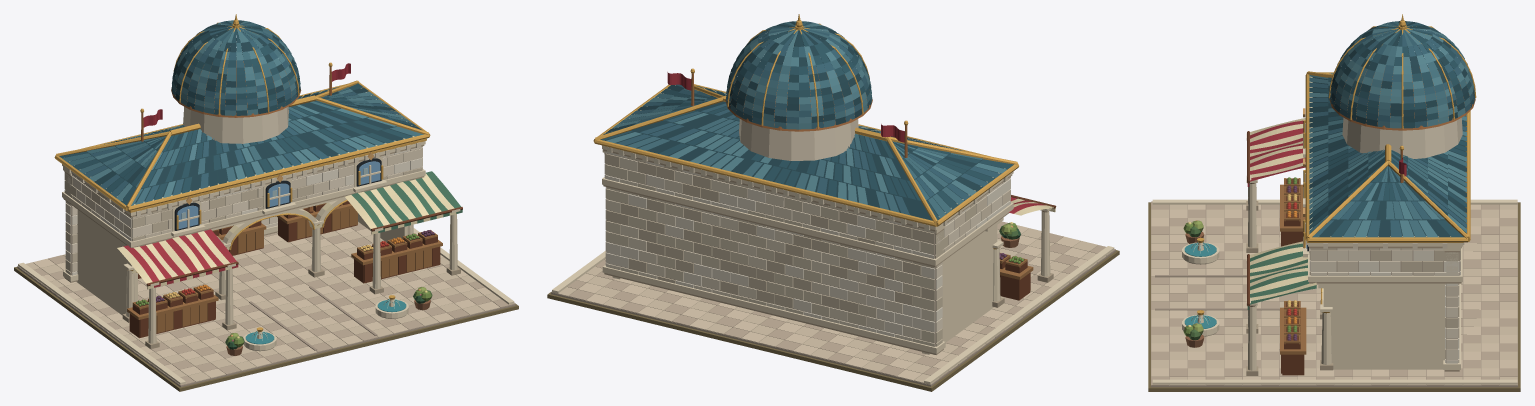
File: market-nivel-7.glb
3 views of the same model, side by side, from view 1: azimuth 30°, elevation 25°; view 2: azimuth 150°, elevation 25°; view 3: azimuth 270°, elevation 25° (orthographic). The views are drawn at different scales.
Parts seen in each view (by area): view 1: Mercado 07 #e6d7ba, Mercado 07 #d3c3a9, Mercado 07 #dac9af, Mercado 07 #c1af99, Mercado 07 #294952, Mercado 07 #305762, Mercado 07 #d5a452, Mercado 07 #ded1b9, Mercado 07 #46717c, Mercado 07 #9f7145, Mercado 07 #54818b, Mercado 07 #eadbb2 (+15 smaller); view 2: Mercado 07 #ded1b9, Mercado 07 #e6d7ba, Mercado 07 #cec1a8, Mercado 07 #e8dcc5, Mercado 07 #294952, Mercado 07 #eae1ce, Mercado 07 #54818b, Mercado 07 #305762, Mercado 07 #c1af99, Mercado 07 #d3c3a9, Mercado 07 #46717c, Mercado 07 #d5a452 (+8 smaller); view 3: Mercado 07 #e6d7ba, Mercado 07 #d3c3a9, Mercado 07 #c1af99, Mercado 07 #dac9af, Mercado 07 #294952, Mercado 07 #54818b, Mercado 07 #46717c, Mercado 07 #305762, Mercado 07 #3b6472, Mercado 07 #d5a452, Mercado 07 #ded1b9, Mercado 07 #ae9d8b (+13 smaller).
Part boxes in pixels (x1,y1,x2,y2): Mercado 07 #e6d7ba: (18,141,514,384); Mercado 07 #d3c3a9: (17,222,500,381); Mercado 07 #dac9af: (33,227,500,378); Mercado 07 #c1af99: (25,222,515,385); Mercado 07 #294952: (62,24,421,203); Mercado 07 #305762: (59,20,417,205); Mercado 07 #d5a452: (54,14,430,331); Mercado 07 #ded1b9: (65,106,422,271); Mercado 07 #46717c: (62,23,423,205); Mercado 07 #9f7145: (127,203,442,332); Mercado 07 #54818b: (89,20,406,201); Mercado 07 #eadbb2: (63,88,456,289); Mercado 07 #ded1b9: (605,119,1010,346); Mercado 07 #e6d7ba: (552,145,1114,384); Mercado 07 #cec1a8: (604,153,980,346); Mercado 07 #e8dcc5: (604,157,1002,341); Mercado 07 #294952: (604,21,1007,220); Mercado 07 #eae1ce: (604,151,1010,336); Mercado 07 #54818b: (606,23,1006,204); Mercado 07 #305762: (601,23,1013,220); Mercado 07 #c1af99: (567,221,1115,377); Mercado 07 #d3c3a9: (551,228,1106,384); Mercado 07 #46717c: (618,21,982,218); Mercado 07 #d5a452: (593,14,1018,249); Mercado 07 #e6d7ba: (1152,123,1517,385); Mercado 07 #d3c3a9: (1151,204,1517,385); Mercado 07 #c1af99: (1151,201,1517,385); Mercado 07 #dac9af: (1151,204,1517,385); Mercado 07 #294952: (1309,21,1469,237); Mercado 07 #54818b: (1309,24,1473,237); Mercado 07 #46717c: (1309,21,1472,237); Mercado 07 #305762: (1309,24,1474,237); Mercado 07 #3b6472: (1309,21,1474,237); Mercado 07 #d5a452: (1197,14,1476,315); Mercado 07 #ded1b9: (1306,117,1464,349); Mercado 07 #ae9d8b: (1151,202,1517,387).
Size of the model in its own units: 12.79 by 9.14 by 10.82.
